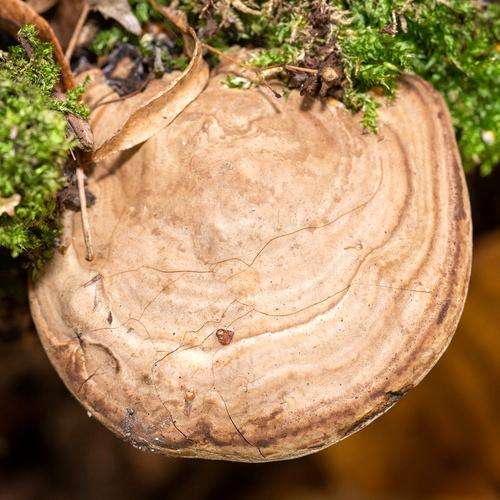Ganoderma - Fruit Body: (29, 64, 474, 463)
